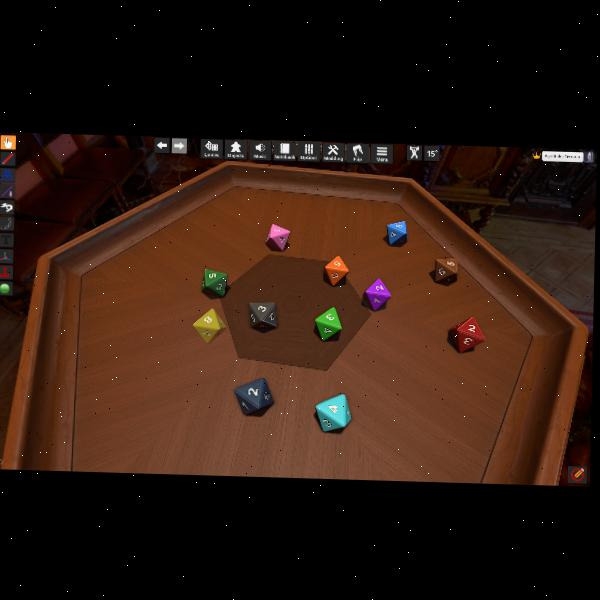d8: (234, 376, 275, 413), (315, 393, 351, 432), (449, 314, 485, 352), (193, 307, 227, 344), (314, 307, 342, 341), (363, 277, 390, 310), (247, 301, 277, 329), (323, 255, 349, 286), (202, 267, 228, 296), (266, 223, 290, 250), (433, 257, 457, 284), (386, 220, 406, 246)
